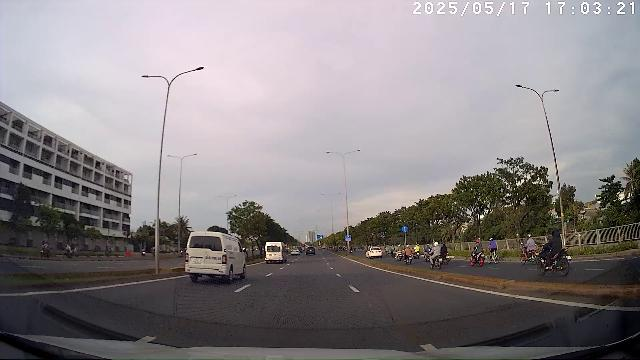301a-cac-xe-chi-duoc-di-thang: (402, 225, 408, 232)
